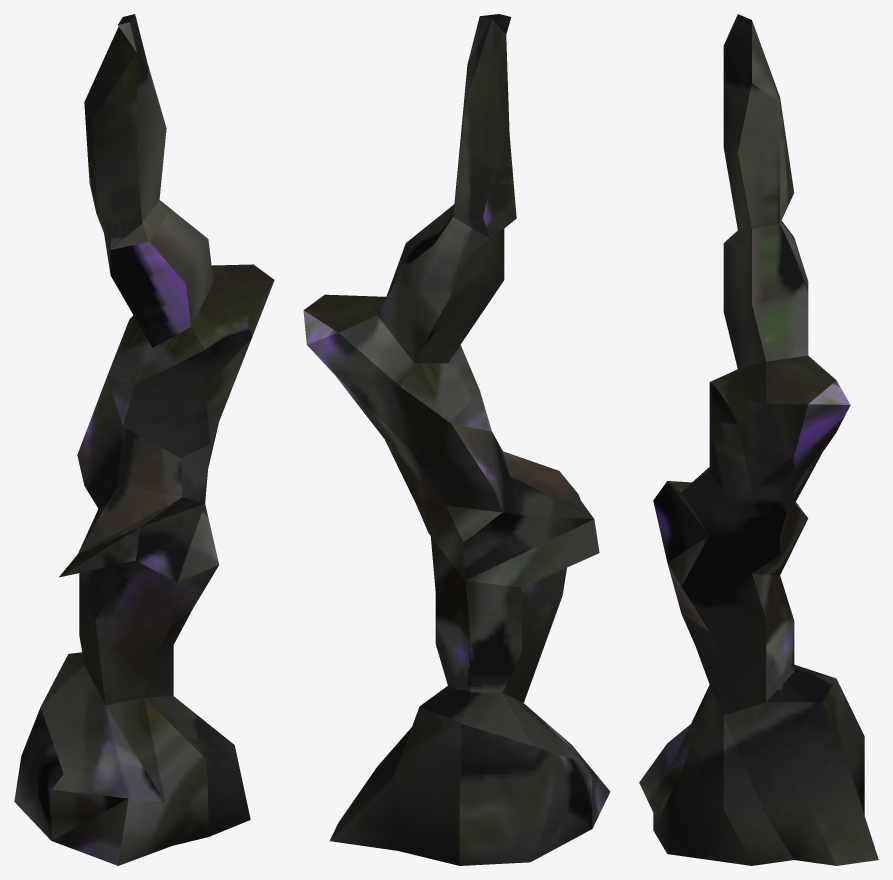
Rendered from BGEAsset4.fbx.
3 views of the same model, side by side, from view 1: azimuth 30°, elevation 25°; view 2: azimuth 150°, elevation 25°; view 3: azimuth 270°, elevation 25° (orthographic).
Visible parts, largest first — view 1: BGEAsset.005; view 2: BGEAsset.005; view 3: BGEAsset.005.
Boxes of the visible parts, x1=… form: BGEAsset.005: x1=14, y1=14, x2=274, y2=865; BGEAsset.005: x1=303, y1=14, x2=610, y2=865; BGEAsset.005: x1=639, y1=14, x2=878, y2=865.
Bounding box in the file's own units: 3.91 × 12.11 × 3.32.
Materials: 1 (1 with a texture image).
